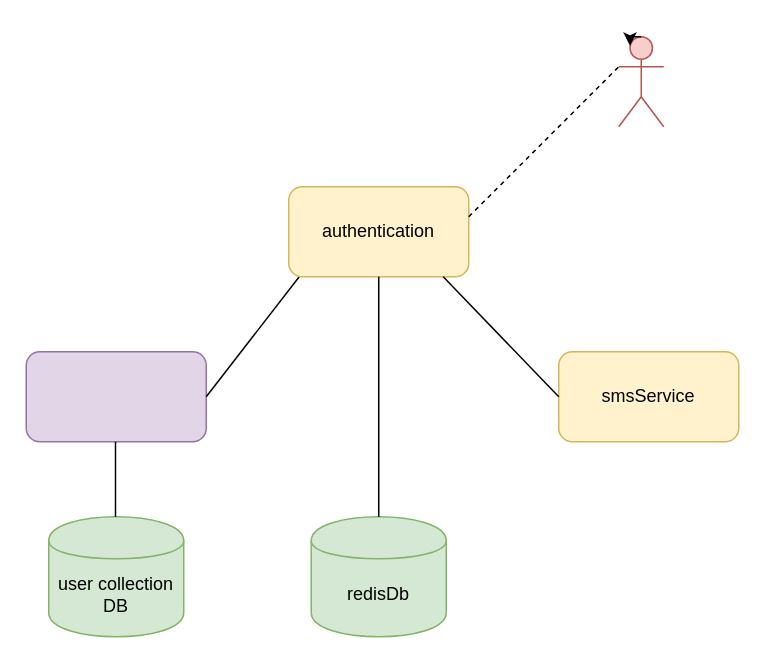
This 765x663 diagram has some shape labels left out. Here are the shapes that lost their labels. From the top down, the box of each, then its label:
(617, 35, 664, 127): Actor
(25, 350, 206, 442): user
